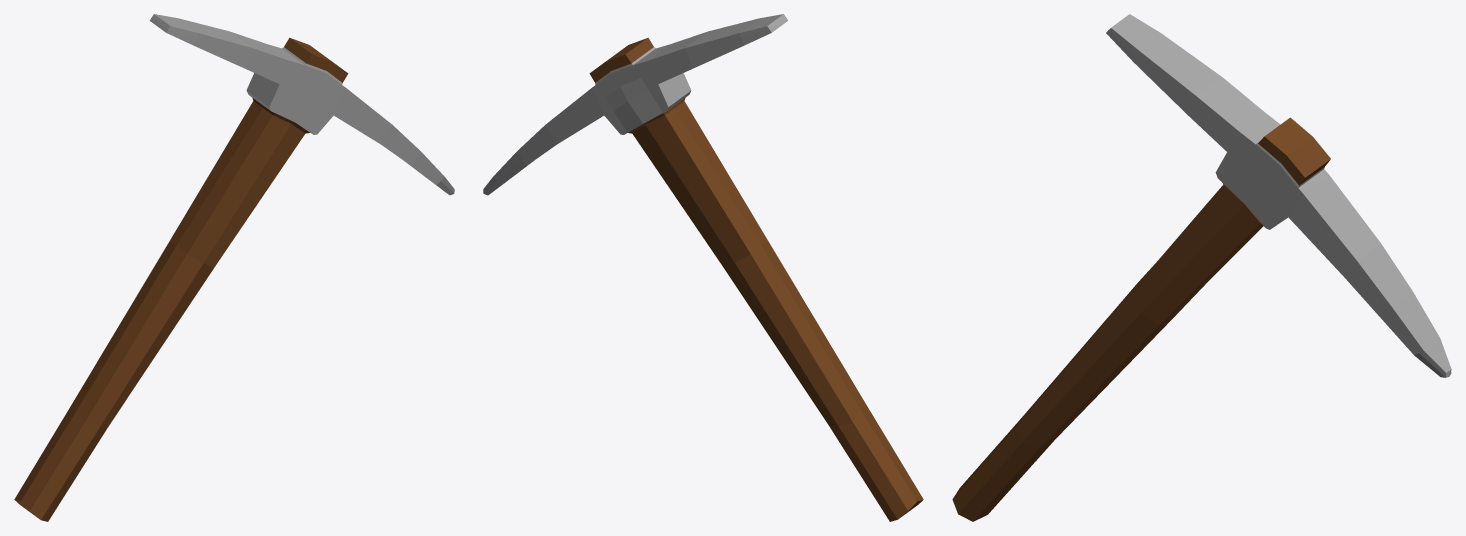
File: Pickaxe.fbx
3 views of the same model, side by side, from view 1: azimuth 30°, elevation 25°; view 2: azimuth 150°, elevation 25°; view 3: azimuth 330°, elevation 25° (orthographic). The views are drawn at different scales.
Parts seen in each view (by area): view 1: Pickaxe; view 2: Pickaxe; view 3: Pickaxe.
Part boxes in pixels (bbox=[...]): Pickaxe: bbox=[14, 14, 454, 521]; Pickaxe: bbox=[483, 14, 923, 521]; Pickaxe: bbox=[952, 14, 1451, 521].
Bounding box in the file's own units: 492 × 507 × 47.79.
